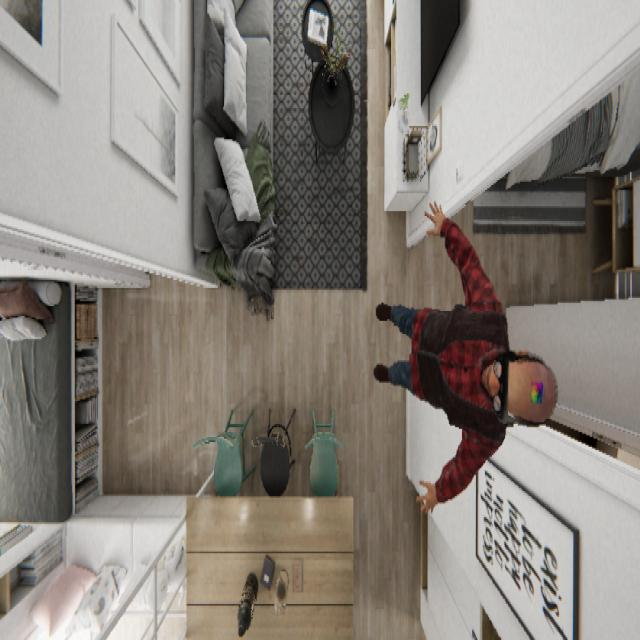Colored-Marker: (528, 376, 544, 406)
Human: (373, 198, 559, 516)
